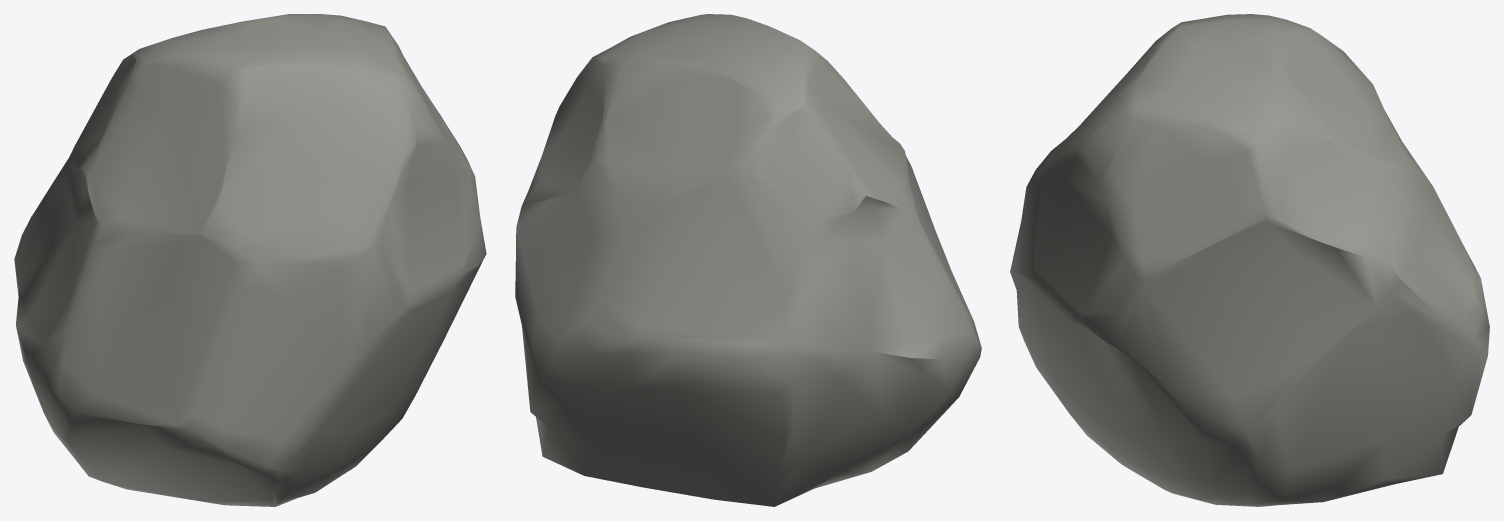
The model's file is Environment_Rock_4.glb.
3 renders of one model, left to right at view 1: azimuth 30°, elevation 25°; view 2: azimuth 150°, elevation 25°; view 3: azimuth 270°, elevation 25°, orthographic. The views are drawn at different scales.
Visible parts, largest first — view 1: Environment_Rock_4; view 2: Environment_Rock_4; view 3: Environment_Rock_4.
Boxes of the visible parts, x1,y1,x2,y2 form: Environment_Rock_4: (14, 14, 486, 506); Environment_Rock_4: (515, 14, 981, 506); Environment_Rock_4: (1010, 14, 1489, 506).
Bounding box in the file's own units: 0.7628 × 0.7114 × 0.746.
Materials: 1 (1 with a texture image).
